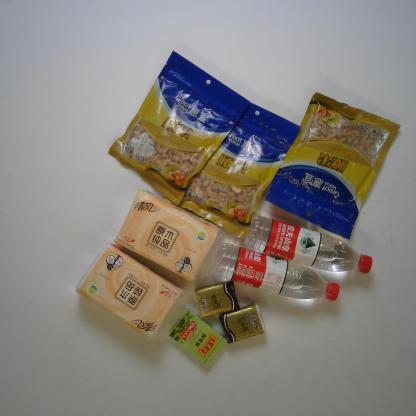Candy: (168, 309, 229, 369)
Dried Fruit: (108, 52, 251, 209), (265, 91, 401, 242), (180, 96, 302, 241)
Drink: (240, 212, 373, 278), (210, 242, 340, 303)
Tissue: (78, 244, 183, 337), (117, 190, 220, 282), (219, 304, 267, 344), (195, 279, 239, 317)
